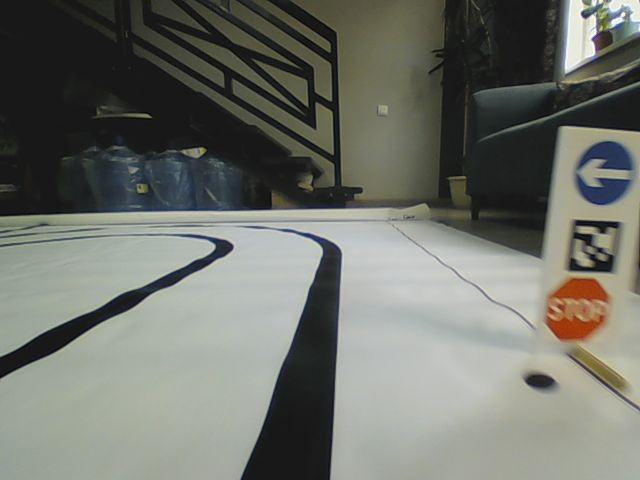Stop: (545, 275, 610, 340)
